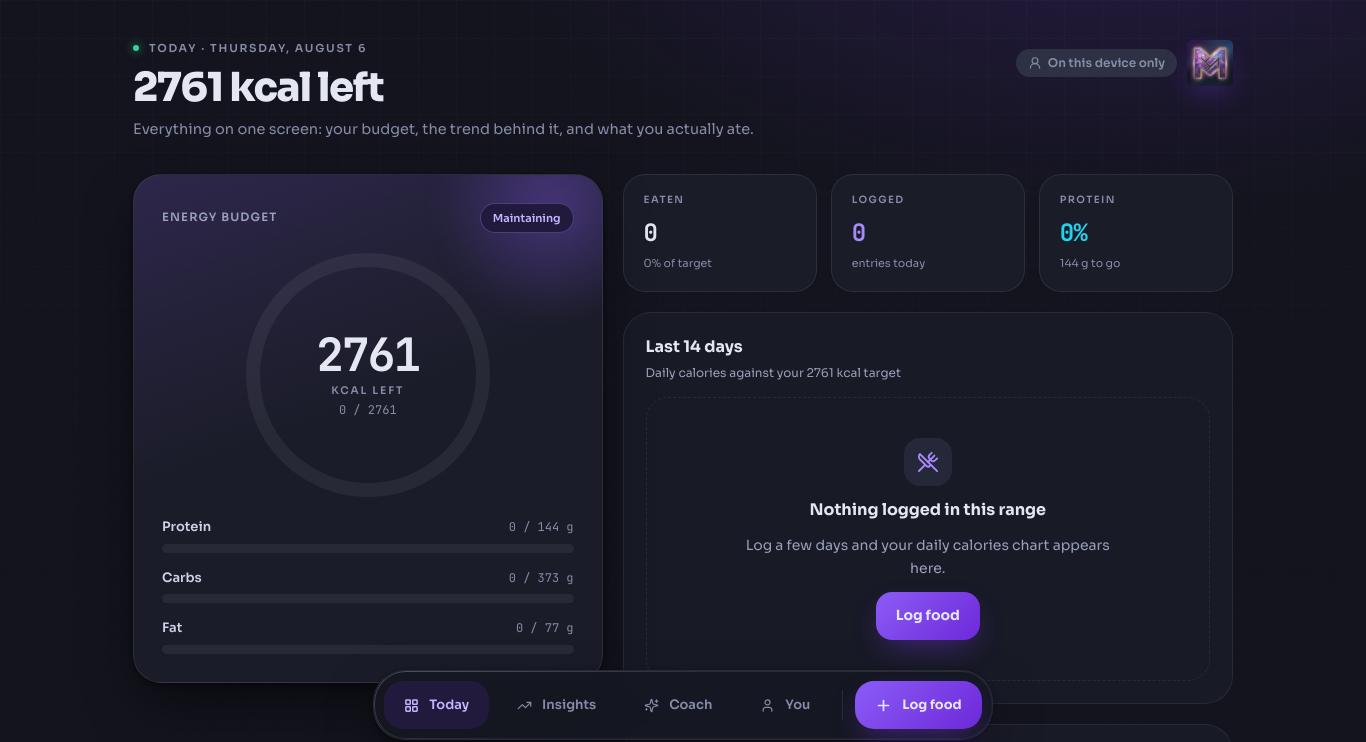
Test: routing — once onboarded › navigates to Insights from the dock and shows honest, per-card empty states
Click the link "Insights". click: click(557, 705)
box: [517,696,596,713]
(page scrolled)
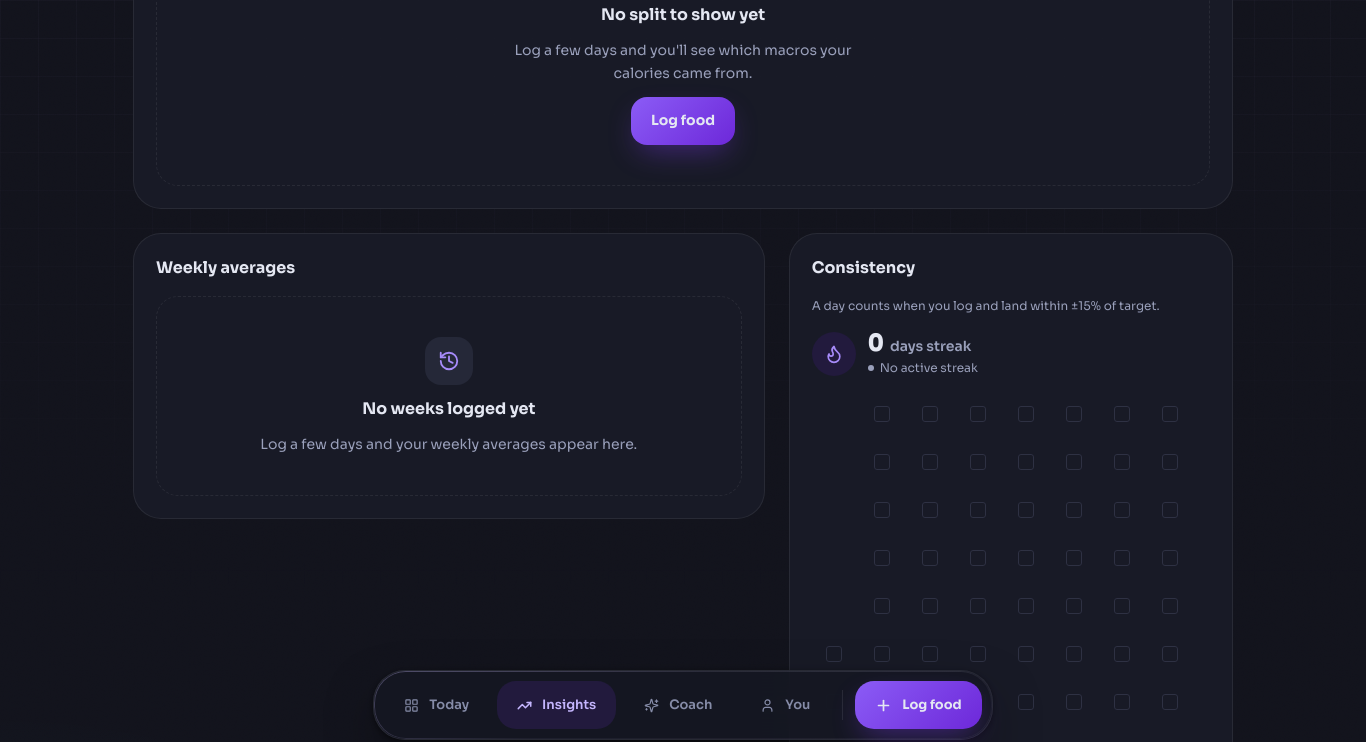
Now the heading "No split to show yet" is shown, box [601,3,765,27]
Now the text "No active streak" is shown, box [868,360,978,376]
